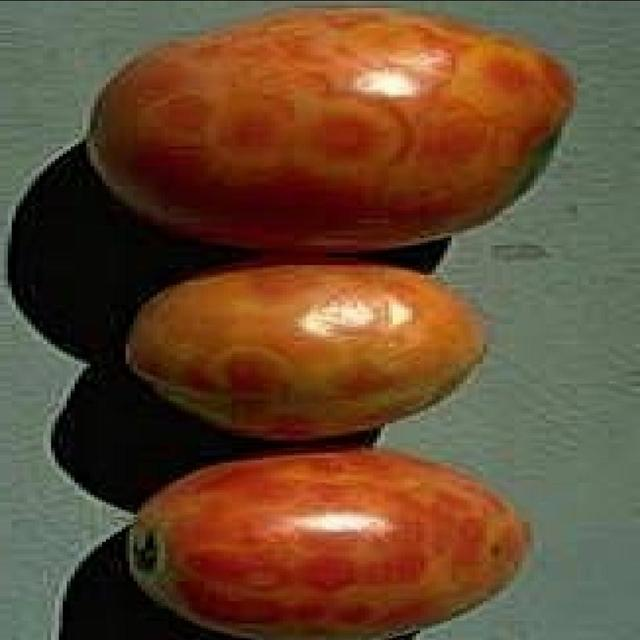Spotted wilt Virus Fruit: (208, 84, 325, 362)
